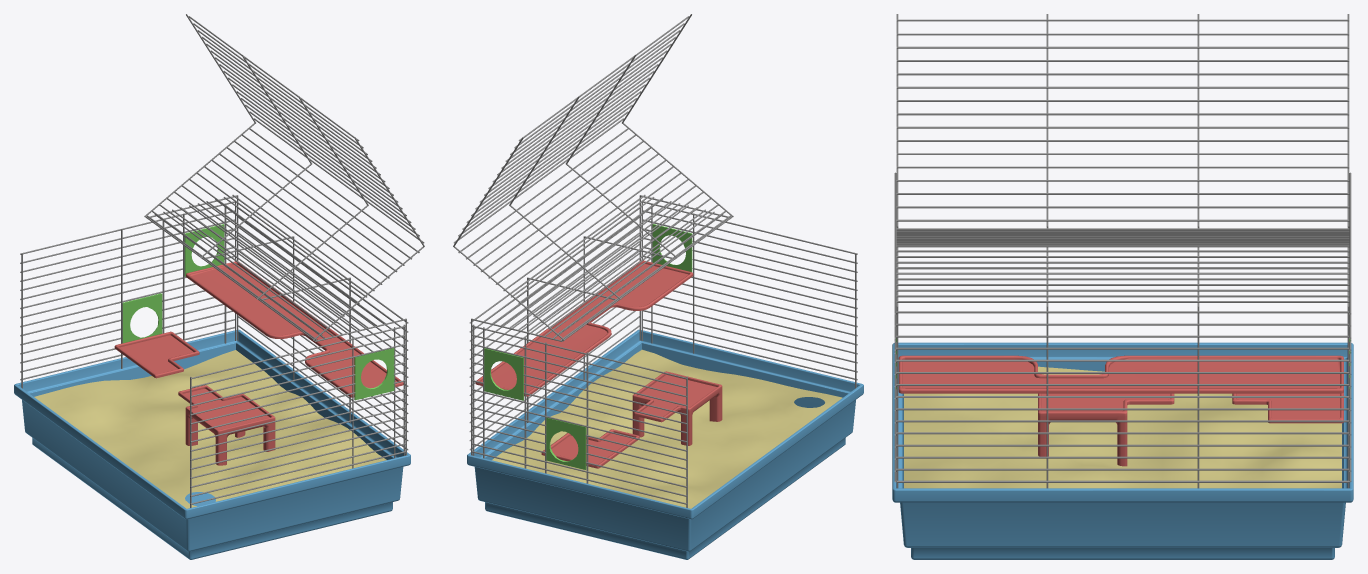
File: Cage.fbx
The picture shows the model from 3 angles, left to right: view 1: azimuth 30°, elevation 25°; view 2: azimuth 150°, elevation 25°; view 3: azimuth 270°, elevation 25°; orthographic projection. The views are drawn at different scales.
Visible parts, largest first — view 1: polySurface46; view 2: polySurface46; view 3: polySurface46.
Boxes of the visible parts, x1,y1,x2,y2 form: polySurface46: (14,14,424,559); polySurface46: (453,14,863,559); polySurface46: (892,14,1353,559).
Size of the model in its own units: 16.67 by 25.64 by 20.65.
